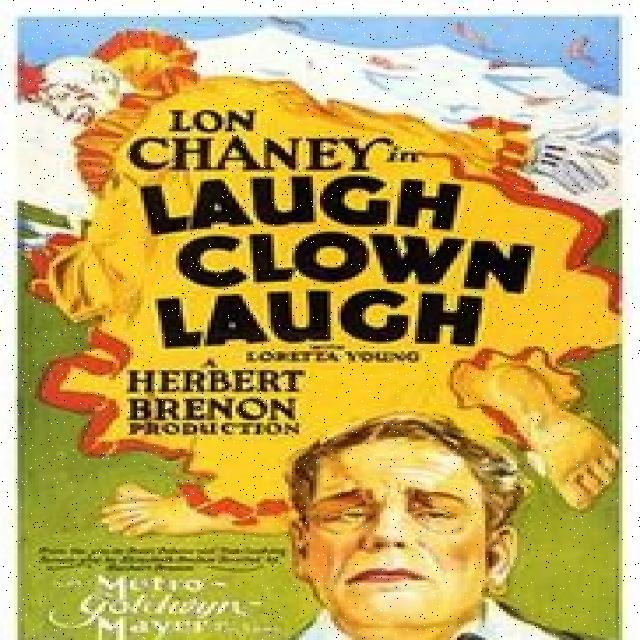movie-judul: (102, 167, 547, 351)
picture: (286, 424, 516, 630), (11, 34, 158, 158)
